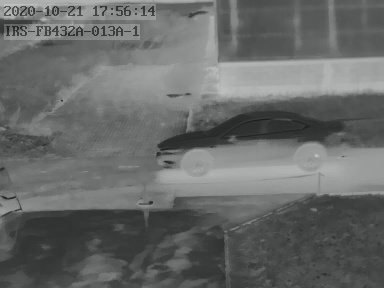vehicle: (158, 112, 347, 177)
